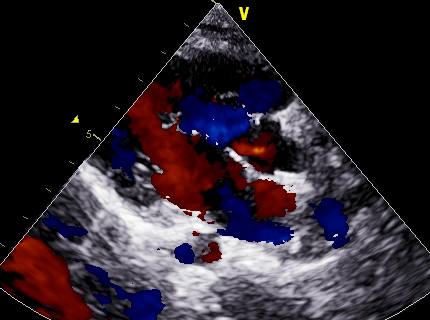MR: (116, 121, 180, 180)
